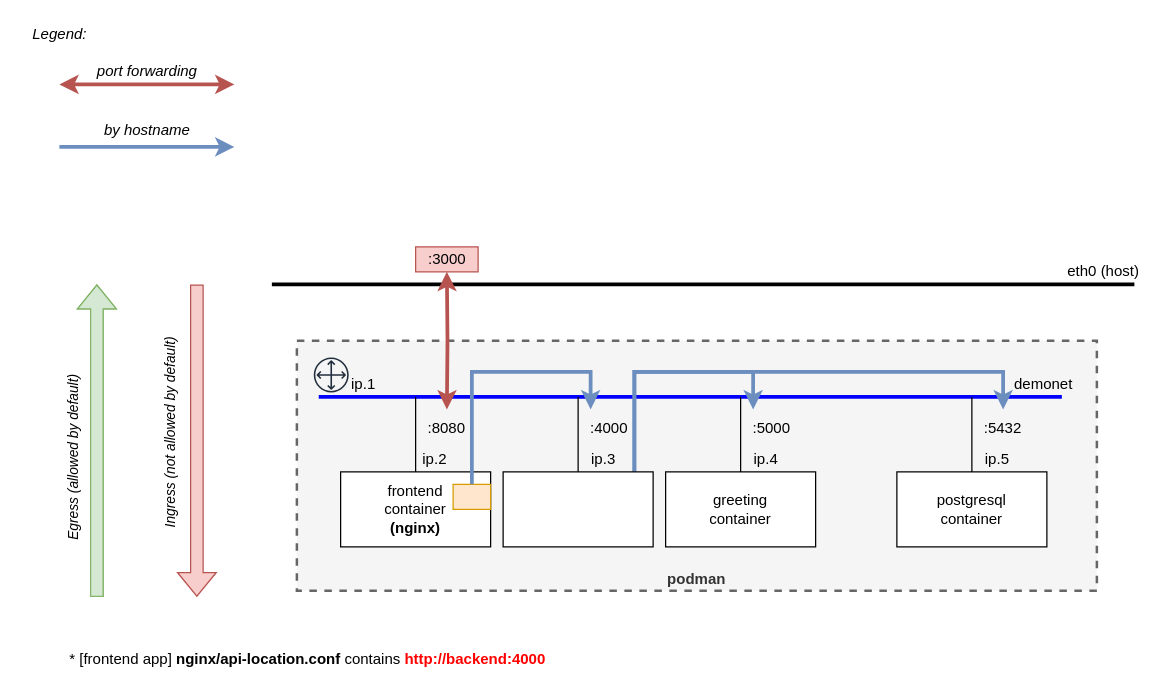
This 1168x699 diagram has some shape labels left out. The centre of each missing label's shape, as x and y in pixels:
"/api" goes at point 471,496.
"backend container" goes at point 577,509.
